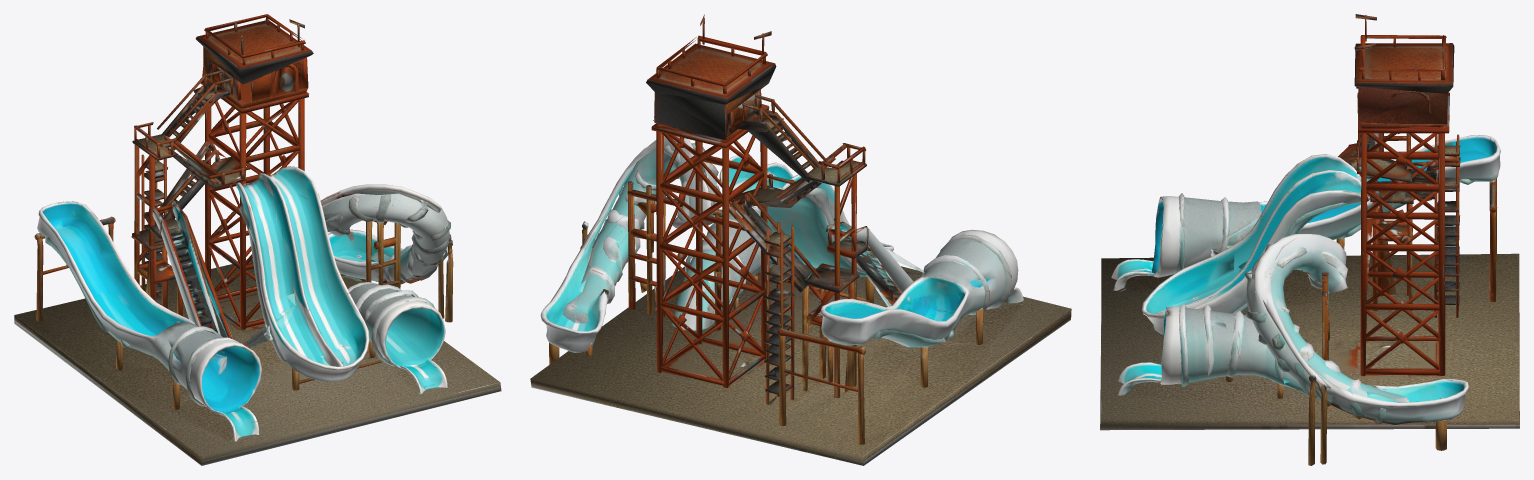
The model's file is deadwater-slide-tower.glb.
3 views of the same model, side by side, from view 1: azimuth 30°, elevation 25°; view 2: azimuth 150°, elevation 25°; view 3: azimuth 270°, elevation 25° (orthographic). The views are drawn at different scales.
Visible parts, largest first — view 1: deadwater-slide-tower; view 2: deadwater-slide-tower; view 3: deadwater-slide-tower.
Part boxes in pixels (bbox=[...]): deadwater-slide-tower: bbox=[14, 14, 501, 465]; deadwater-slide-tower: bbox=[530, 14, 1071, 465]; deadwater-slide-tower: bbox=[1100, 14, 1519, 465].
Bounding box in the file's own units: 1 × 0.8684 × 0.9443.
1 material, 1 textured.
